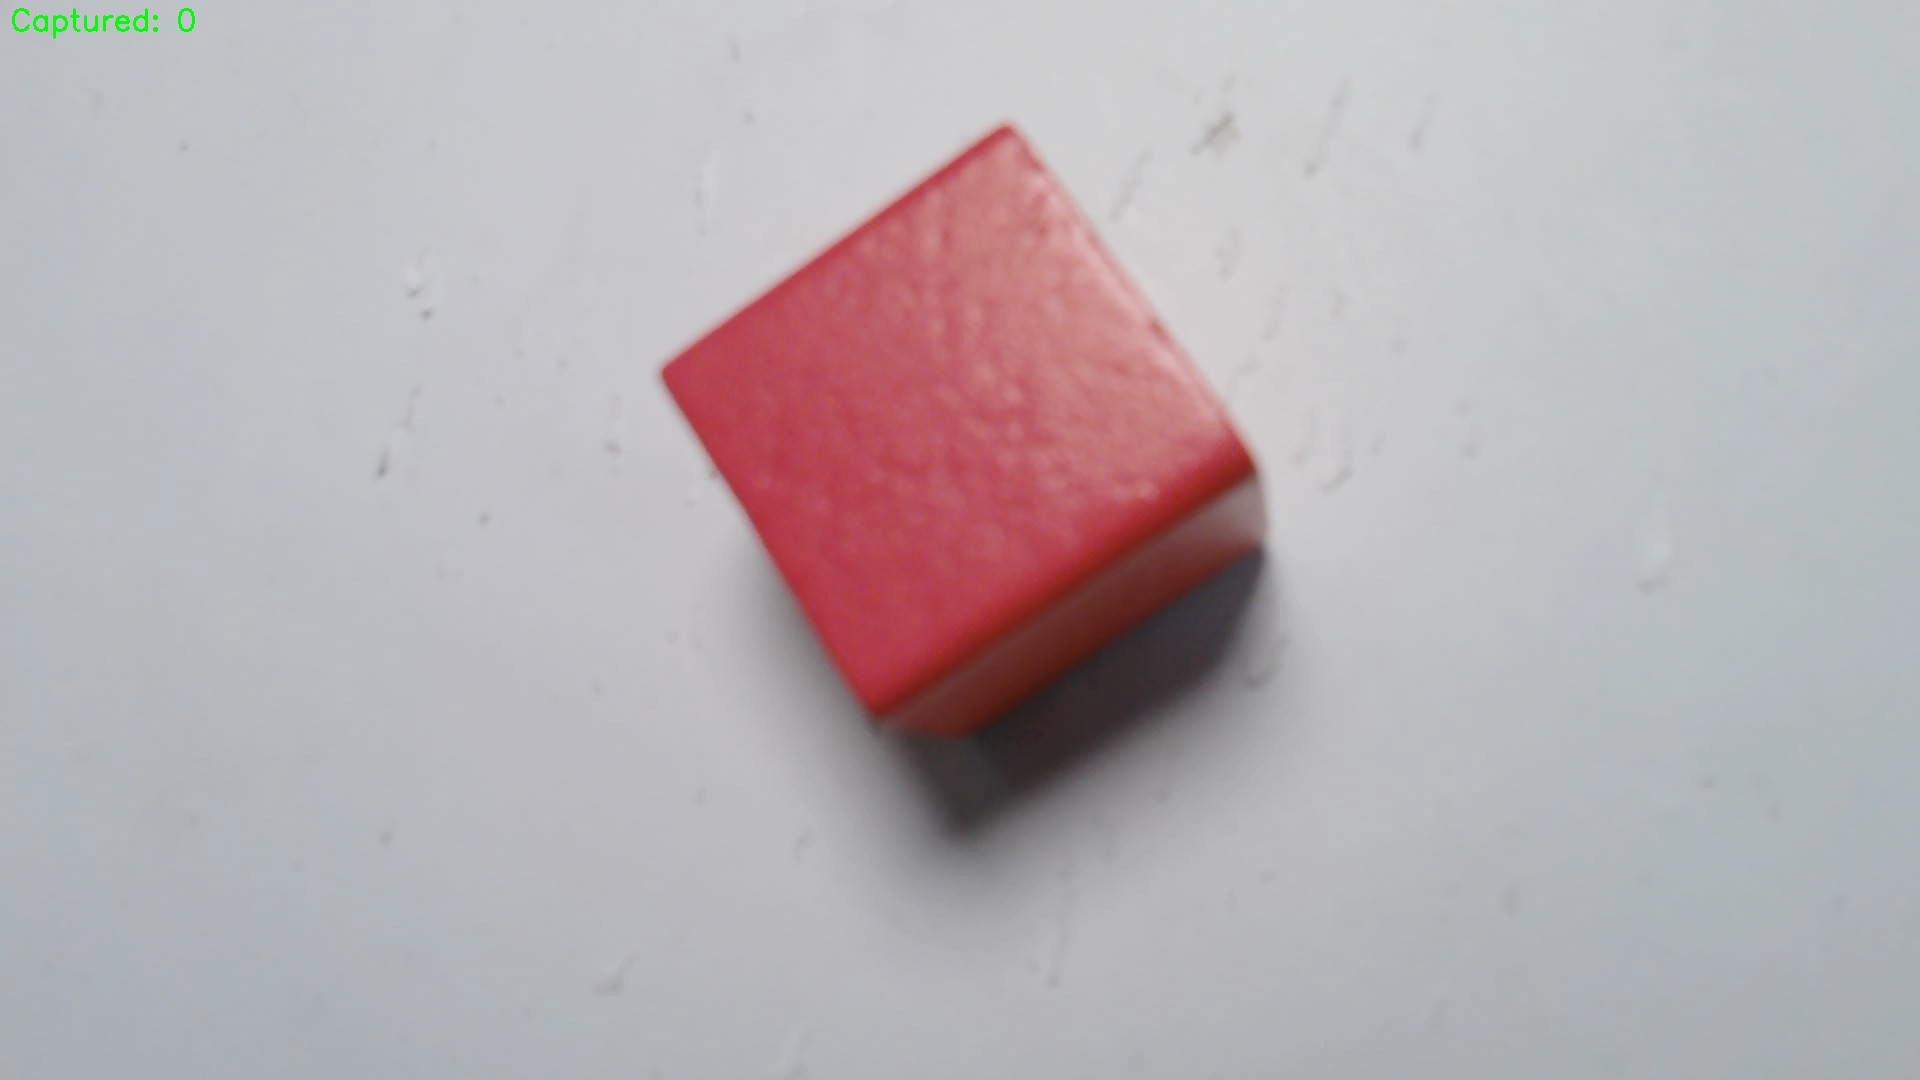red: (655, 124, 1265, 756)
